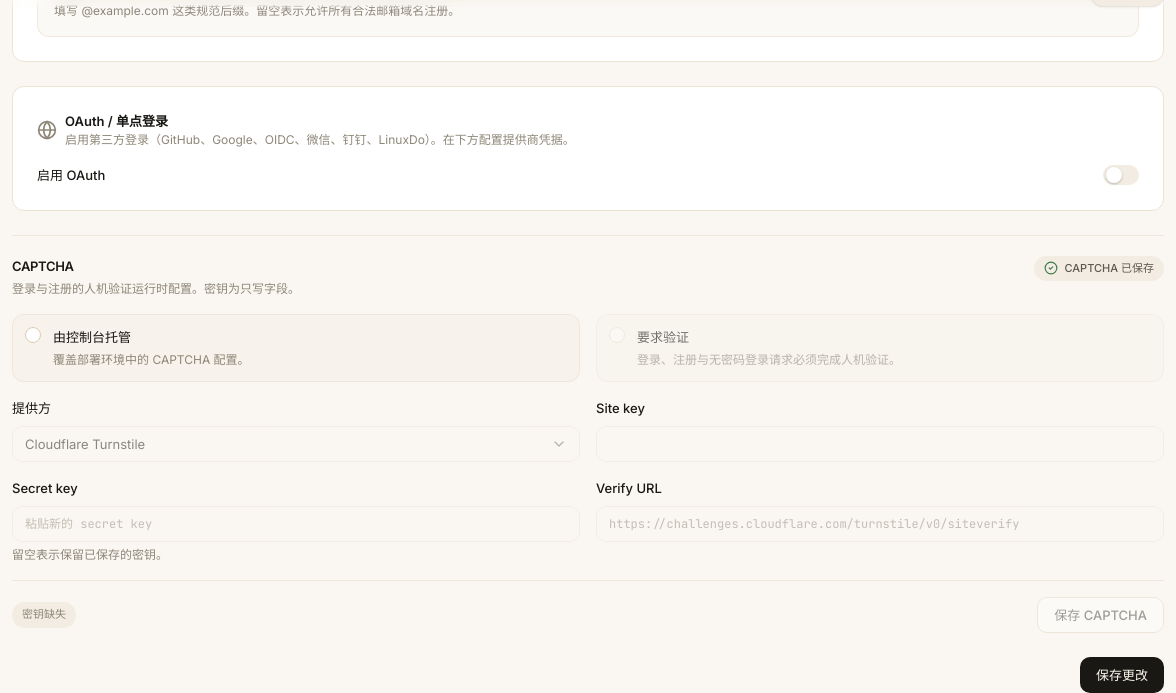
Test case: AdminSettingsPage › edits captcha runtime settings through the dedicated security control
(page scrolled)
Expected: the heading "CAPTCHA" is shown, [12, 258, 74, 274]
Click the checkbox labelled "由控制台托管" at (33, 335), box [25, 327, 41, 343]
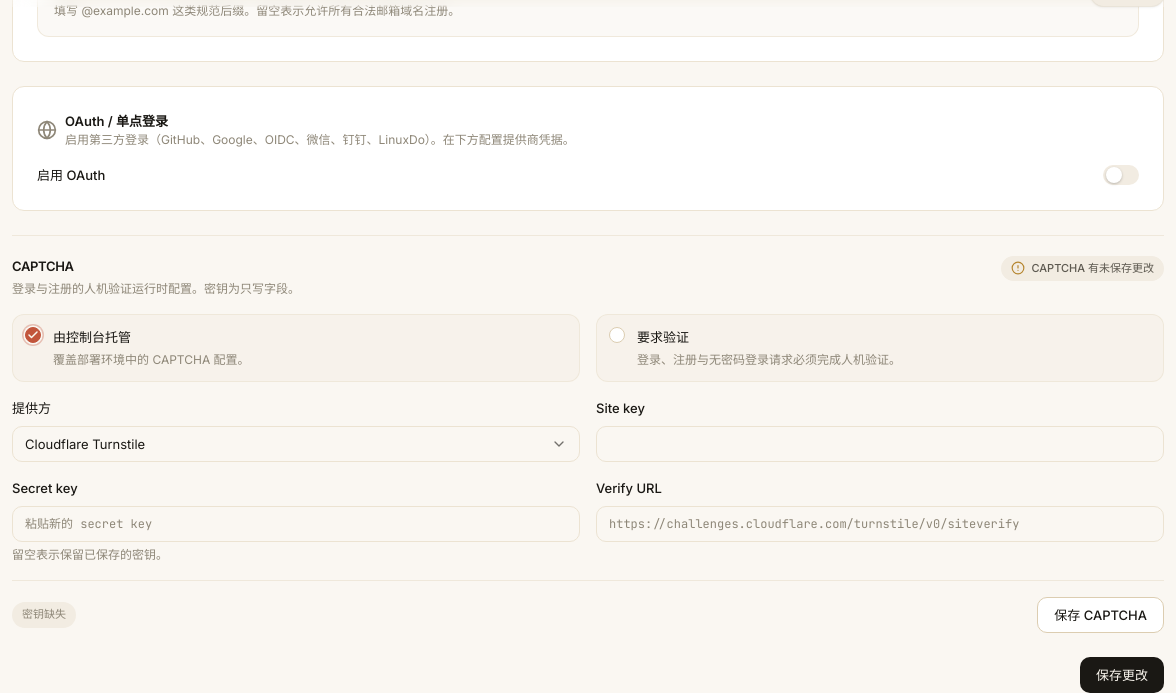
Click the checkbox labelled "要求验证" at (617, 335), box [609, 327, 625, 343]
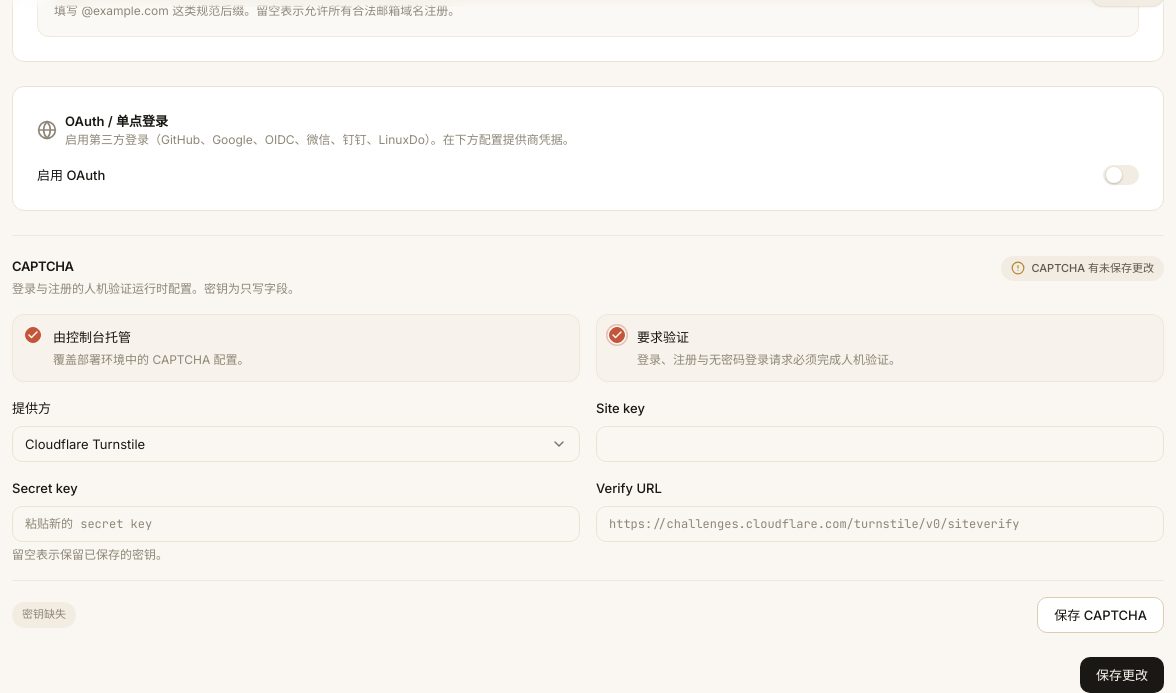
Type "site-123" into the field labelled "Site key" at (880, 444), box [596, 426, 1164, 462]
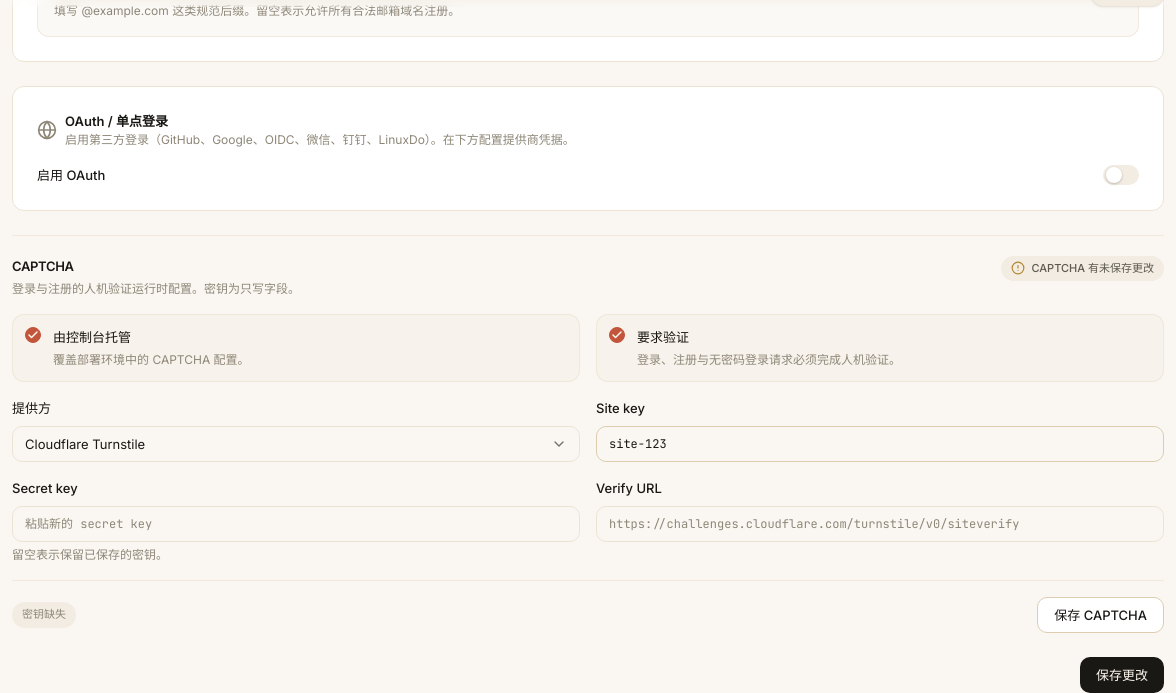
Type "secret-123" into the password field labelled "Secret key" at (296, 524), box [12, 506, 580, 542]
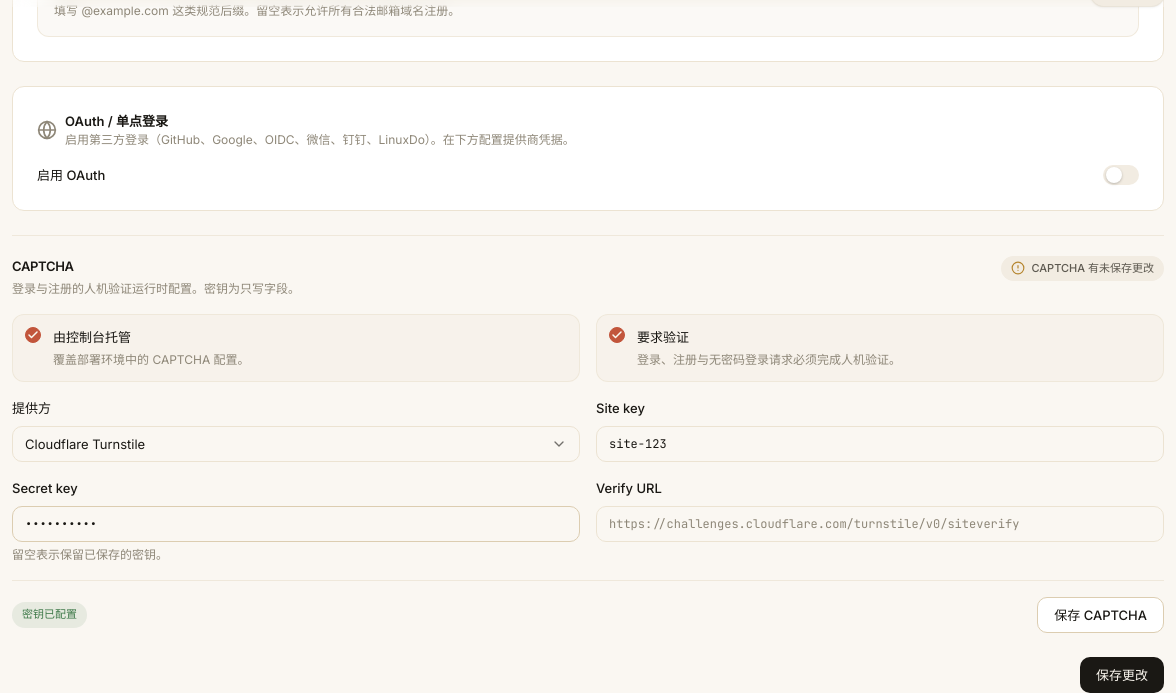
Type "https://captcha.example/siteverify" into the field labelled "Verify URL" at (880, 524), box [596, 506, 1164, 542]
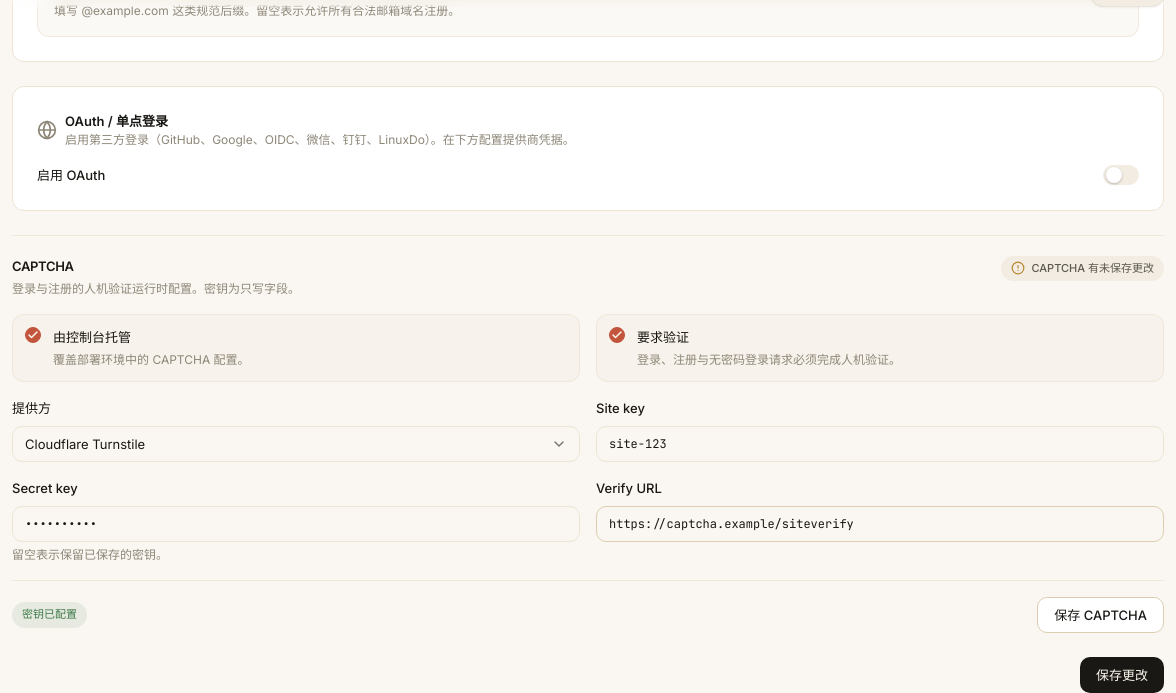
Expected: the text "CAPTCHA 有未保存更改" is shown, [1002, 256, 1164, 281]
Click the button "保存 CAPTCHA" at (1101, 615), box [1037, 597, 1164, 633]
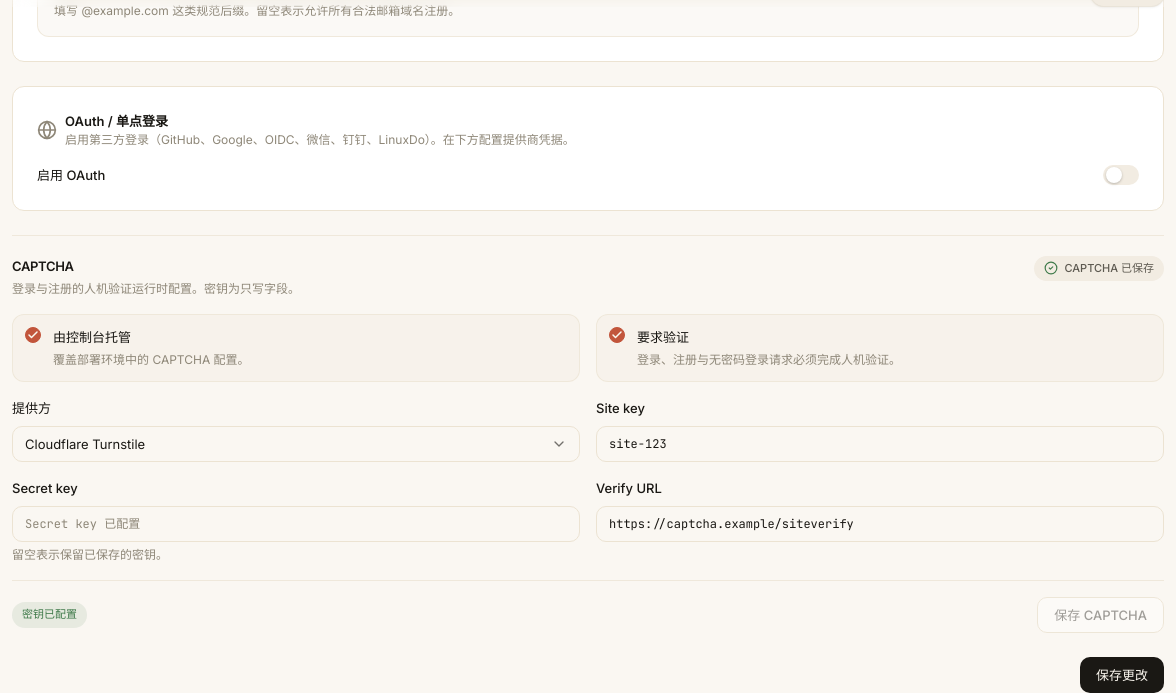
Expected: the password field labelled "Secret key" is empty, [12, 506, 580, 542]
Expected: the text "CAPTCHA 已保存" is shown, [1034, 256, 1164, 281]
